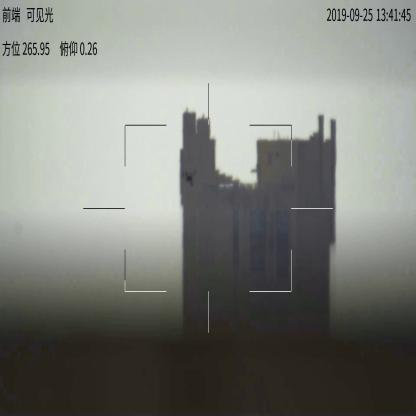uav: (180, 167, 196, 189)
